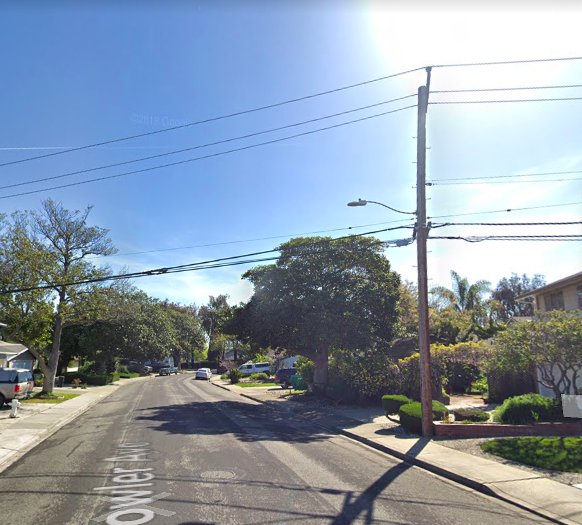tree: (219, 234, 403, 394), (1, 197, 119, 394)
utility_pole: (396, 54, 446, 174)
